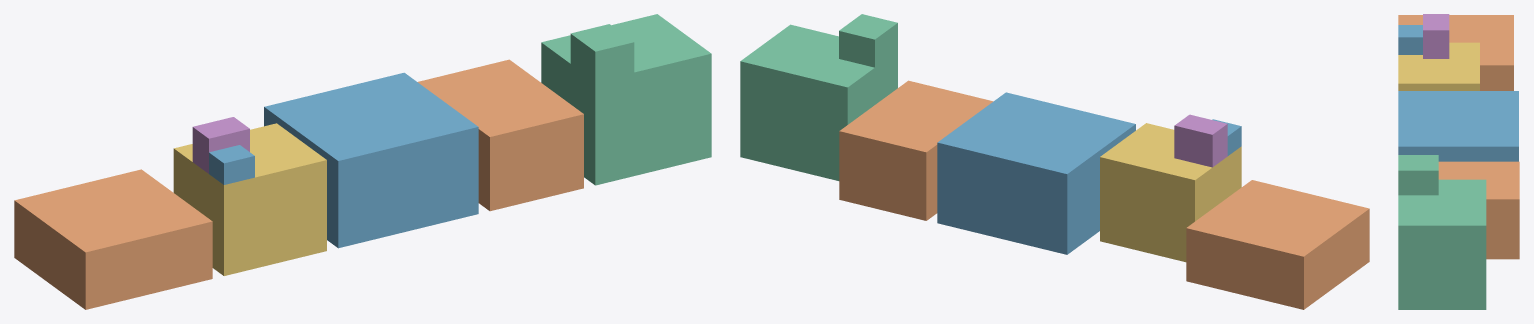
The model's file is layout.glb.
3 renders of one model, left to right at view 1: azimuth 30°, elevation 25°; view 2: azimuth 150°, elevation 25°; view 3: azimuth 270°, elevation 25°, orthographic. The views are drawn at different scales.
Visible parts, largest first — view 1: base_3, base_4, base_1, base_0, base_2, item_1, item_0, item_2; view 2: base_3, base_4, base_1, base_2, base_0, item_1, item_0, item_2; view 3: base_1, base_3, base_2, base_4, base_0, item_1, item_0, item_2.
Part boxes in pixels (x1,y1,x2,y2): base_3: [264, 72, 478, 248]; base_4: [14, 169, 212, 309]; base_1: [541, 14, 711, 185]; base_0: [173, 123, 326, 275]; base_2: [417, 59, 583, 211]; item_1: [570, 24, 634, 81]; item_0: [192, 117, 249, 173]; item_2: [209, 145, 254, 184]; base_3: [937, 92, 1135, 254]; base_4: [1186, 180, 1369, 309]; base_1: [740, 24, 897, 180]; base_2: [839, 80, 993, 220]; base_0: [1100, 123, 1241, 262]; item_1: [839, 14, 897, 67]; item_0: [1174, 114, 1227, 167]; item_2: [1212, 119, 1241, 155]; base_1: [1398, 179, 1486, 309]; base_3: [1398, 91, 1518, 161]; base_2: [1438, 161, 1519, 259]; base_4: [1398, 15, 1513, 90]; base_0: [1398, 42, 1479, 90]; item_1: [1398, 155, 1438, 195]; item_0: [1423, 14, 1449, 58]; item_2: [1398, 25, 1422, 54].
Size of the model in its own units: 6.64 by 1.36 by 1.37.
